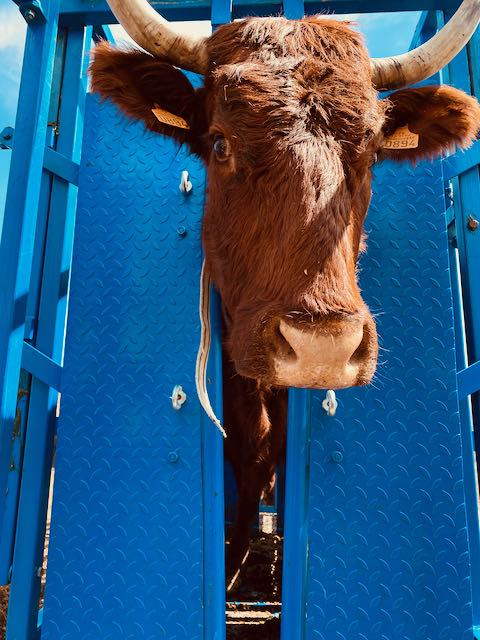muzzles: (227, 298, 384, 402)
